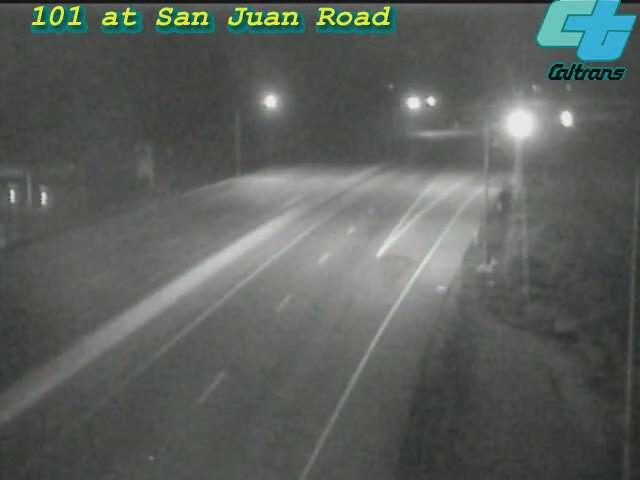vehicle: (492, 99, 542, 149), (541, 94, 591, 144)
